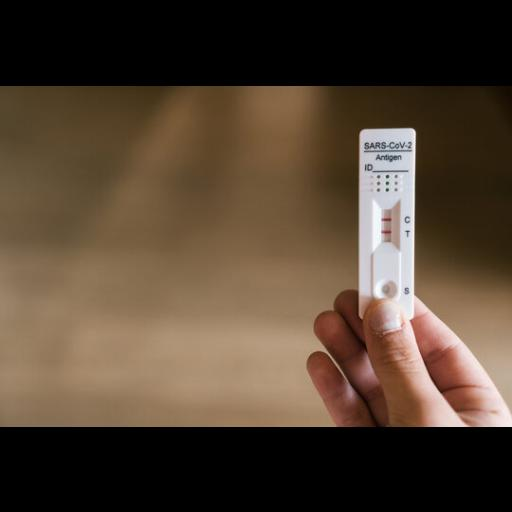Pos: (360, 127, 414, 319)
